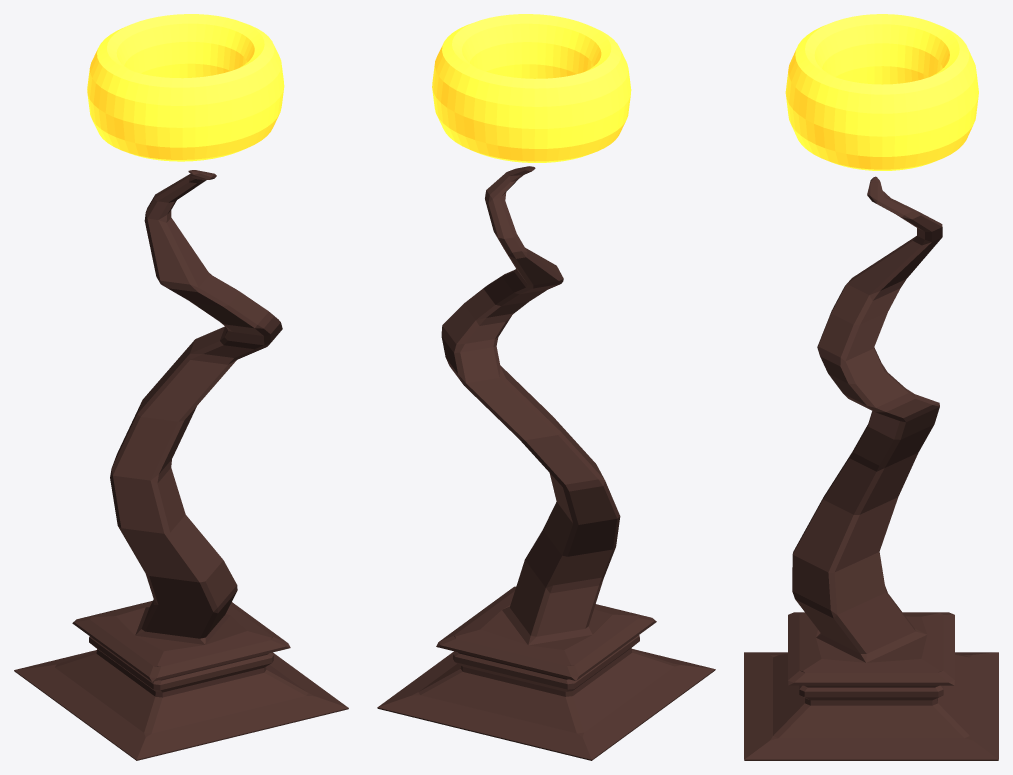
File: lamp.glb
3 renders of one model, left to right at view 1: azimuth 30°, elevation 25°; view 2: azimuth 150°, elevation 25°; view 3: azimuth 270°, elevation 25°, orthographic. The views are drawn at different scales.
Parts seen in each view (by area): view 1: Torus.003; view 2: Torus.003; view 3: Torus.003.
Boxes of the visible parts, box(x1,y1,x2,y2) form: Torus.003: box(14, 14, 348, 760); Torus.003: box(377, 14, 715, 760); Torus.003: box(744, 14, 998, 760).
Bounding box in the file's own units: 5.33 × 15.32 × 5.33.
